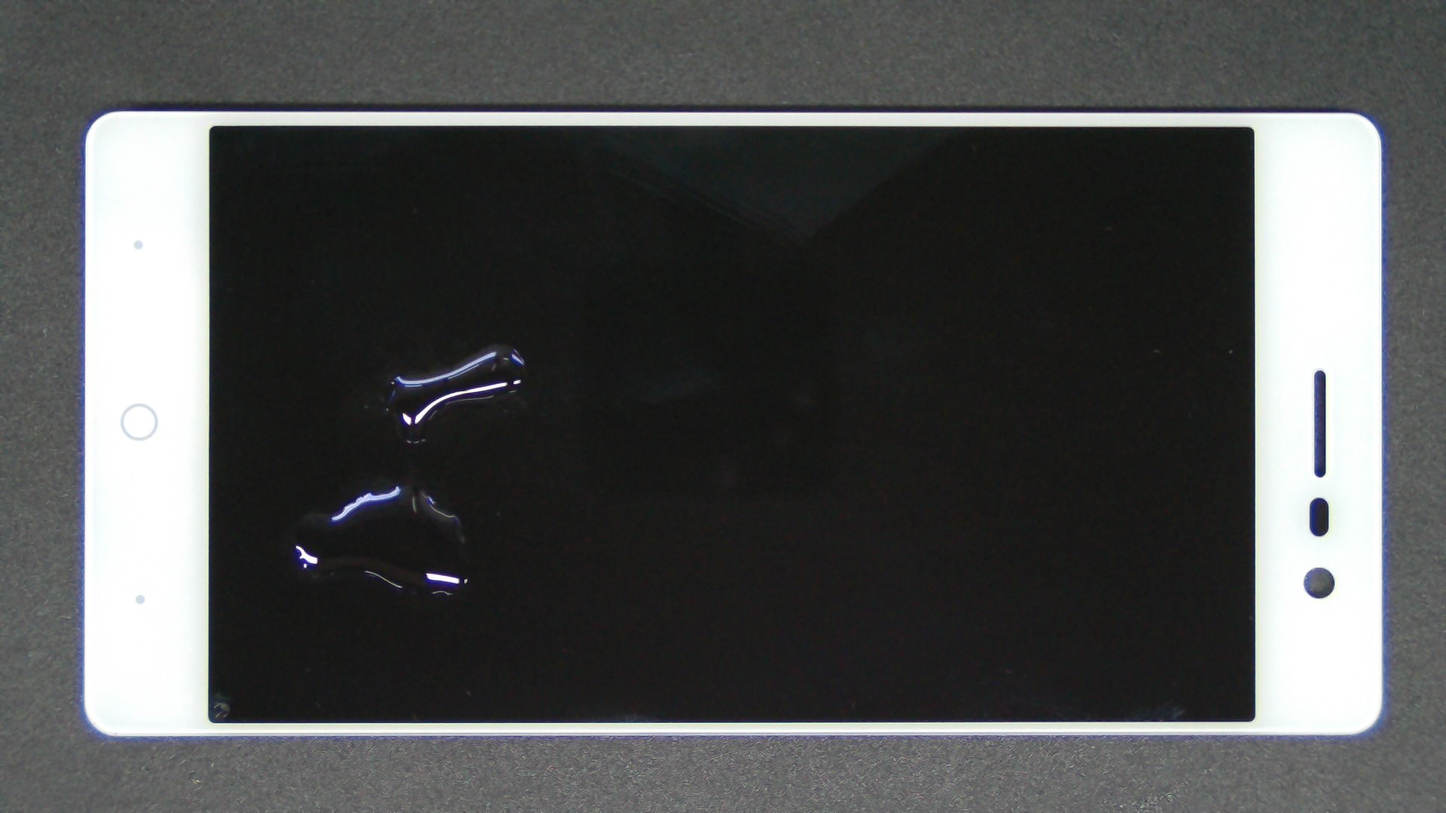oil: (260, 319, 580, 644)
